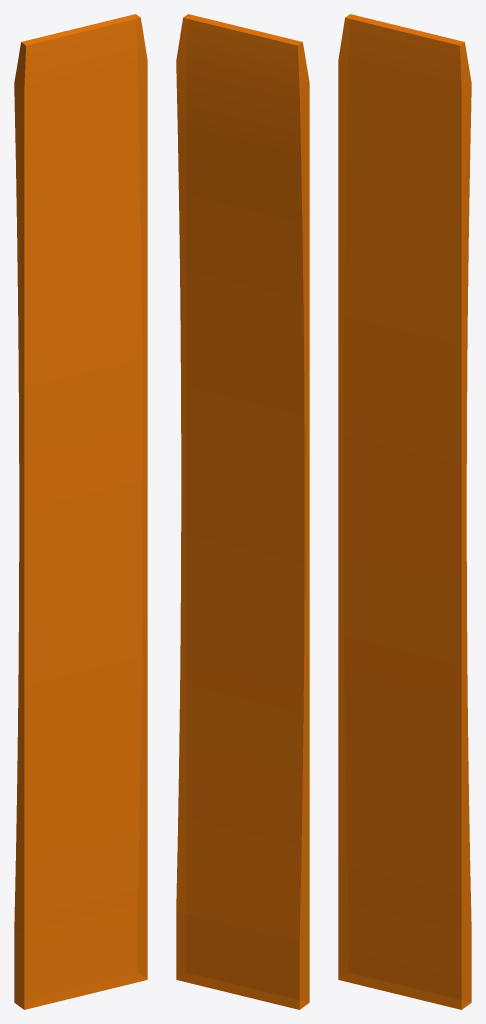
Rendered from original-2.obj.
3 views of the same model, side by side, from view 1: azimuth 30°, elevation 25°; view 2: azimuth 150°, elevation 25°; view 3: azimuth 330°, elevation 25° (orthographic).
Parts seen in each view (by area): view 1: Componente_1_1/Componente_1/mesh3/mesh3-geometry#mesh3-geometry; view 2: Componente_1_1/Componente_1/mesh3/mesh3-geometry#mesh3-geometry; view 3: Componente_1_1/Componente_1/mesh3/mesh3-geometry#mesh3-geometry.
Part boxes in pixels (box(x1,y1,x2,y2)): Componente_1_1/Componente_1/mesh3/mesh3-geometry#mesh3-geometry: box(14, 14, 147, 1009); Componente_1_1/Componente_1/mesh3/mesh3-geometry#mesh3-geometry: box(176, 14, 309, 1009); Componente_1_1/Componente_1/mesh3/mesh3-geometry#mesh3-geometry: box(338, 14, 471, 1009).
Size of the model in its own units: 0.0745 by 0.5542 by 0.0105.
